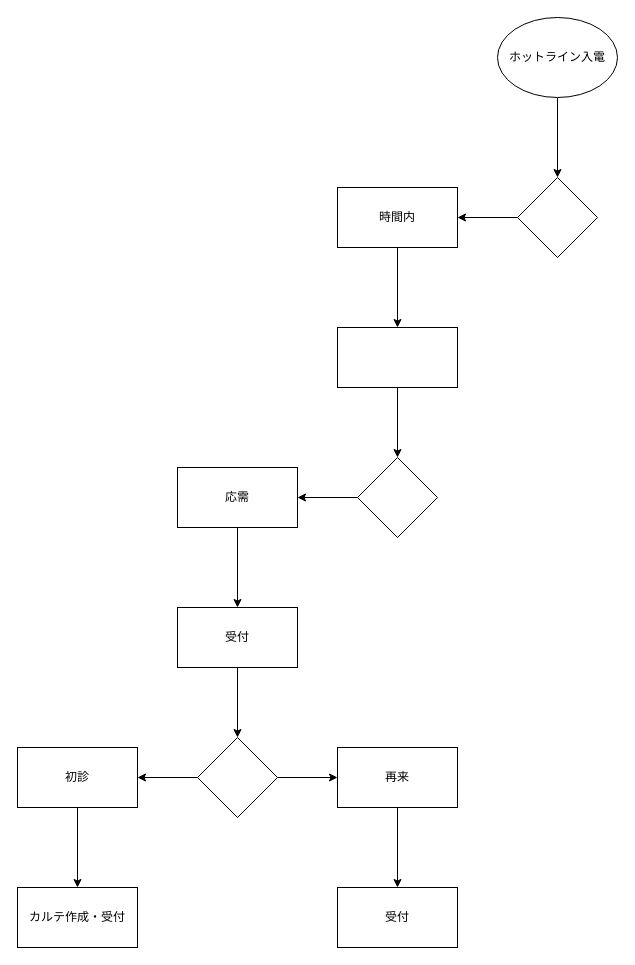
Some shapes in this 635 by 965 pixel diagram are drawn without their labels. Here are the shapes that lost their labels. From the top down, the centre of each, then its label:
At [557,217]: "勤務帯".
At [397,357]: "医師対応".
At [397,497]: "応需判断".
At [237,777]: "カルテ検索".
